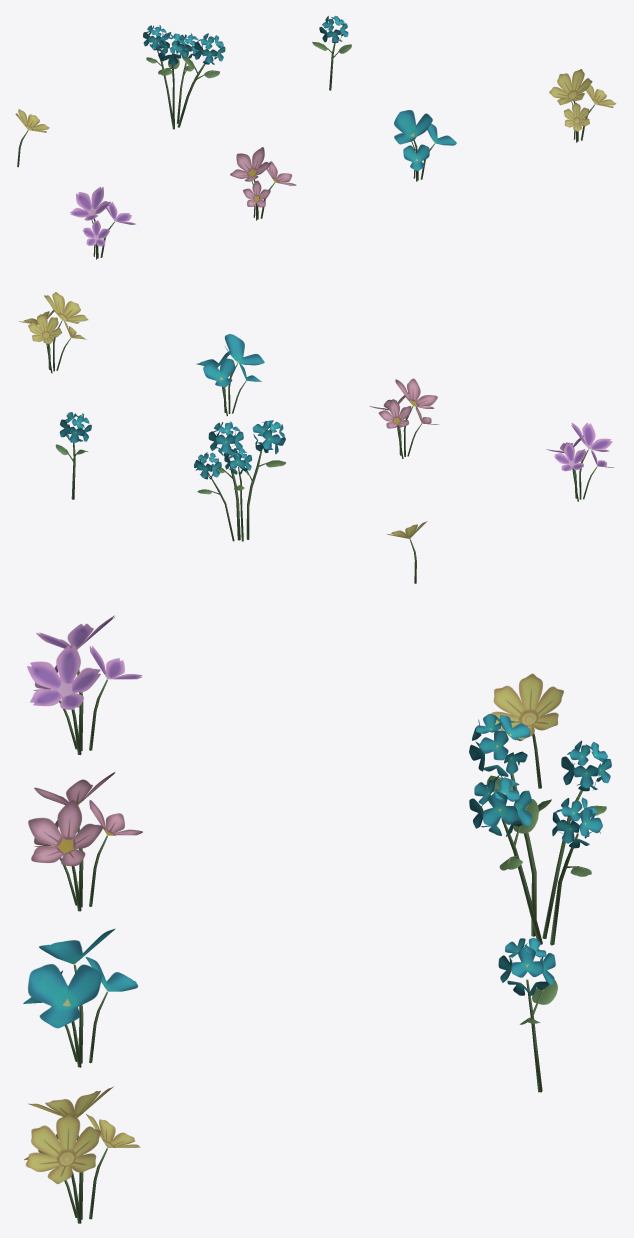
File: flowers.glb
3 renders of one model, top to bottom at view 1: azimuth 30°, elevation 25°; view 2: azimuth 150°, elevation 25°; view 3: azimuth 270°, elevation 25°, orthographic. The views are drawn at different scales.
Visible parts, largest first — view 1: Flower_1_Clump, Flower_2_Clump, Flower_3_Clump, Flower_4_Clump, Flower_5_Clump, Flower_1, Flower_2; view 2: Flower_1_Clump, Flower_2_Clump, Flower_3_Clump, Flower_4_Clump, Flower_5_Clump, Flower_1; view 3: Flower_1_Clump, Flower_2_Clump, Flower_3_Clump, Flower_4_Clump, Flower_5_Clump, Flower_2, Flower_1.
Part boxes in pixels (box(x1,y1,x2,y2)): Flower_1_Clump: box(143, 25, 225, 129); Flower_2_Clump: box(549, 69, 615, 142); Flower_3_Clump: box(394, 110, 456, 181); Flower_4_Clump: box(230, 147, 296, 220); Flower_5_Clump: box(70, 187, 135, 259); Flower_1: box(312, 16, 351, 90); Flower_2: box(15, 109, 49, 167); Flower_1_Clump: box(194, 420, 286, 541); Flower_2_Clump: box(19, 292, 88, 373); Flower_3_Clump: box(196, 334, 264, 415); Flower_4_Clump: box(369, 378, 438, 458); Flower_5_Clump: box(546, 422, 613, 501); Flower_1: box(55, 412, 91, 499); Flower_1_Clump: box(469, 713, 611, 945); Flower_2_Clump: box(24, 1086, 140, 1223); Flower_3_Clump: box(23, 928, 137, 1067); Flower_4_Clump: box(28, 772, 142, 911); Flower_5_Clump: box(27, 615, 142, 754); Flower_2: box(491, 673, 563, 788); Flower_1: box(498, 937, 557, 1092).
Bounding box in the file's own units: 3.59 × 0.6742 × 1.71.
Materials: 1 (1 with a texture image).
